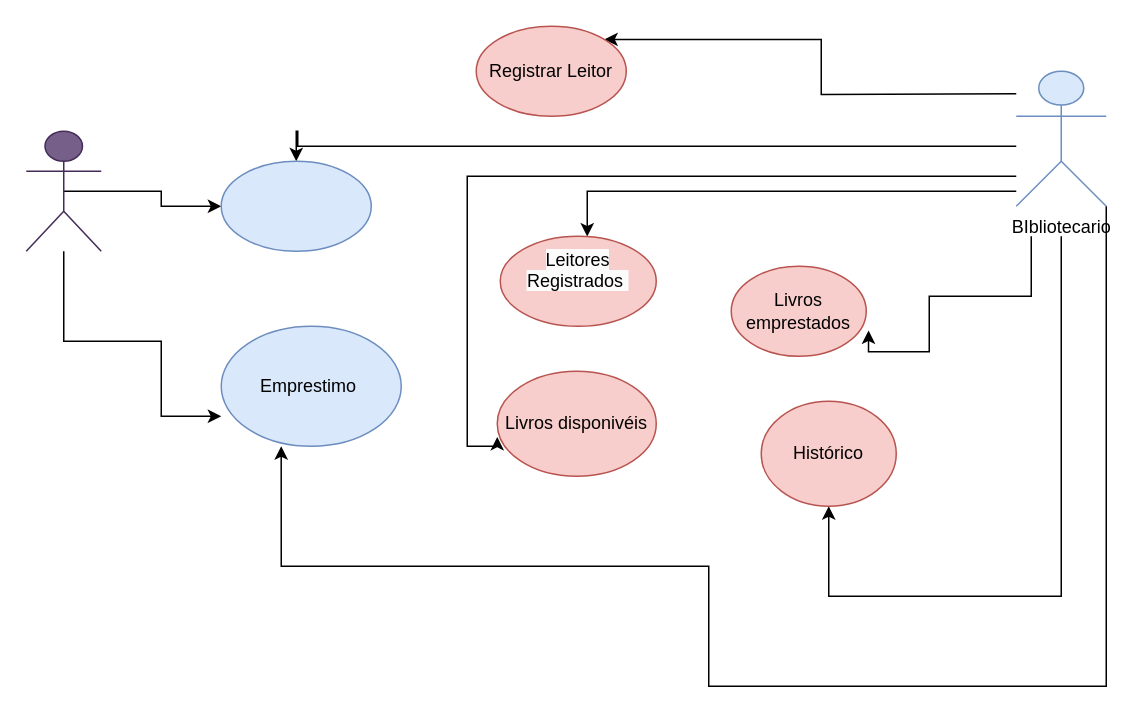
Some shapes in this 1145 by 725 pixel diagram are drawn without their labels. The box of each missing label's shape, as (x1, y1, x2, y2) in pixels:
Devolução: (220, 160, 371, 251)
Leitor: (25, 130, 101, 251)
